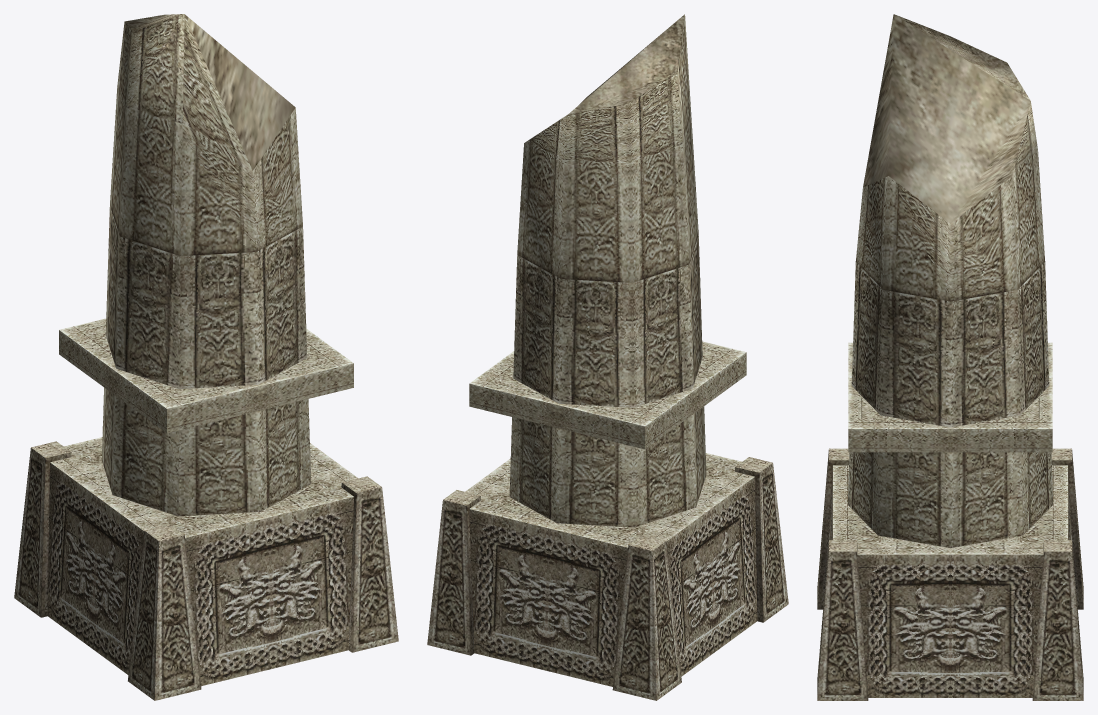
Rendered from general_obj_bigtoewr05.fbx.
3 views of the same model, side by side, from view 1: azimuth 30°, elevation 25°; view 2: azimuth 150°, elevation 25°; view 3: azimuth 270°, elevation 25° (orthographic). The views are drawn at different scales.
Visible parts, largest first — view 1: Sphere01; view 2: Sphere01; view 3: Sphere01.
Boxes of the visible parts, <box> form: Sphere01: <box>14,14,398,700</box>; Sphere01: <box>427,14,788,700</box>; Sphere01: <box>817,14,1083,700</box>.
Bounding box in the file's own units: 5.22 × 13.09 × 5.21.
